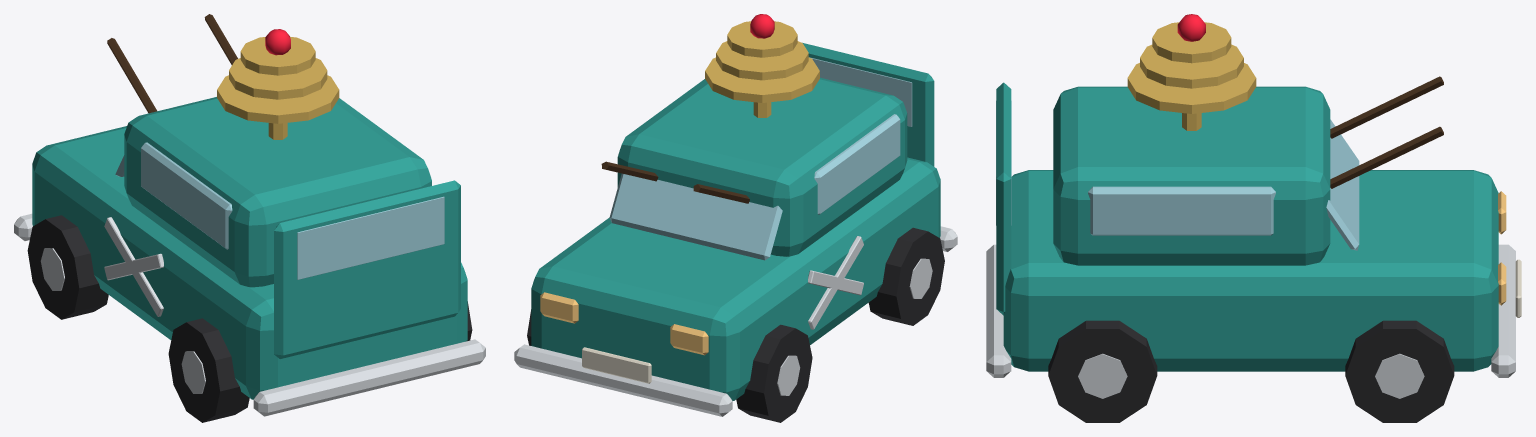
File: time_machine.fbx
3 views of the same model, side by side, from view 1: azimuth 30°, elevation 25°; view 2: azimuth 150°, elevation 25°; view 3: azimuth 270°, elevation 25° (orthographic). The views are drawn at different scales.
Visible parts, largest first — view 1: Car, Boot; view 2: Car, Boot; view 3: Car, Boot.
Boxes of the visible parts, x1,y1,x2,y2 form: Car: [14, 14, 485, 422]; Boot: [274, 180, 460, 358]; Car: [514, 14, 957, 422]; Boot: [802, 42, 934, 166]; Car: [986, 14, 1521, 422]; Boot: [996, 82, 1011, 315].
Bounding box in the file's own units: 0.625 × 1.08 × 0.7646.
